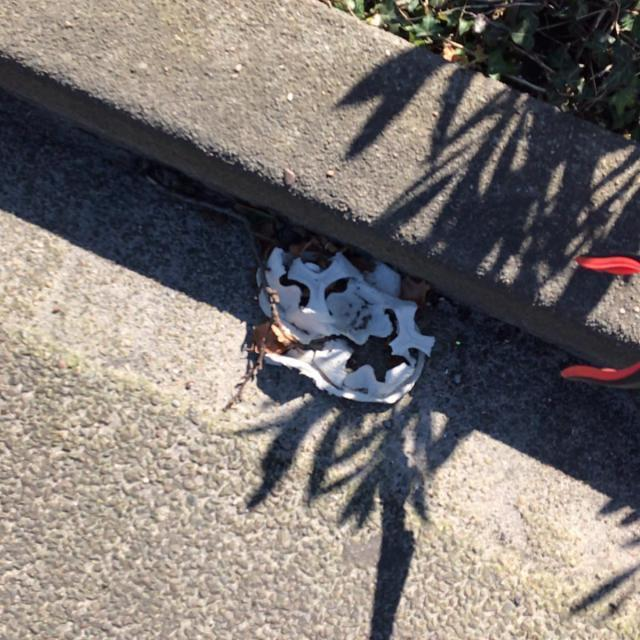Paper: (244, 240, 436, 411)
